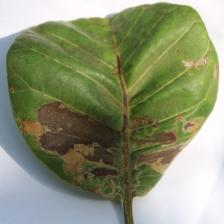leaf miner: (5, 1, 220, 224)
